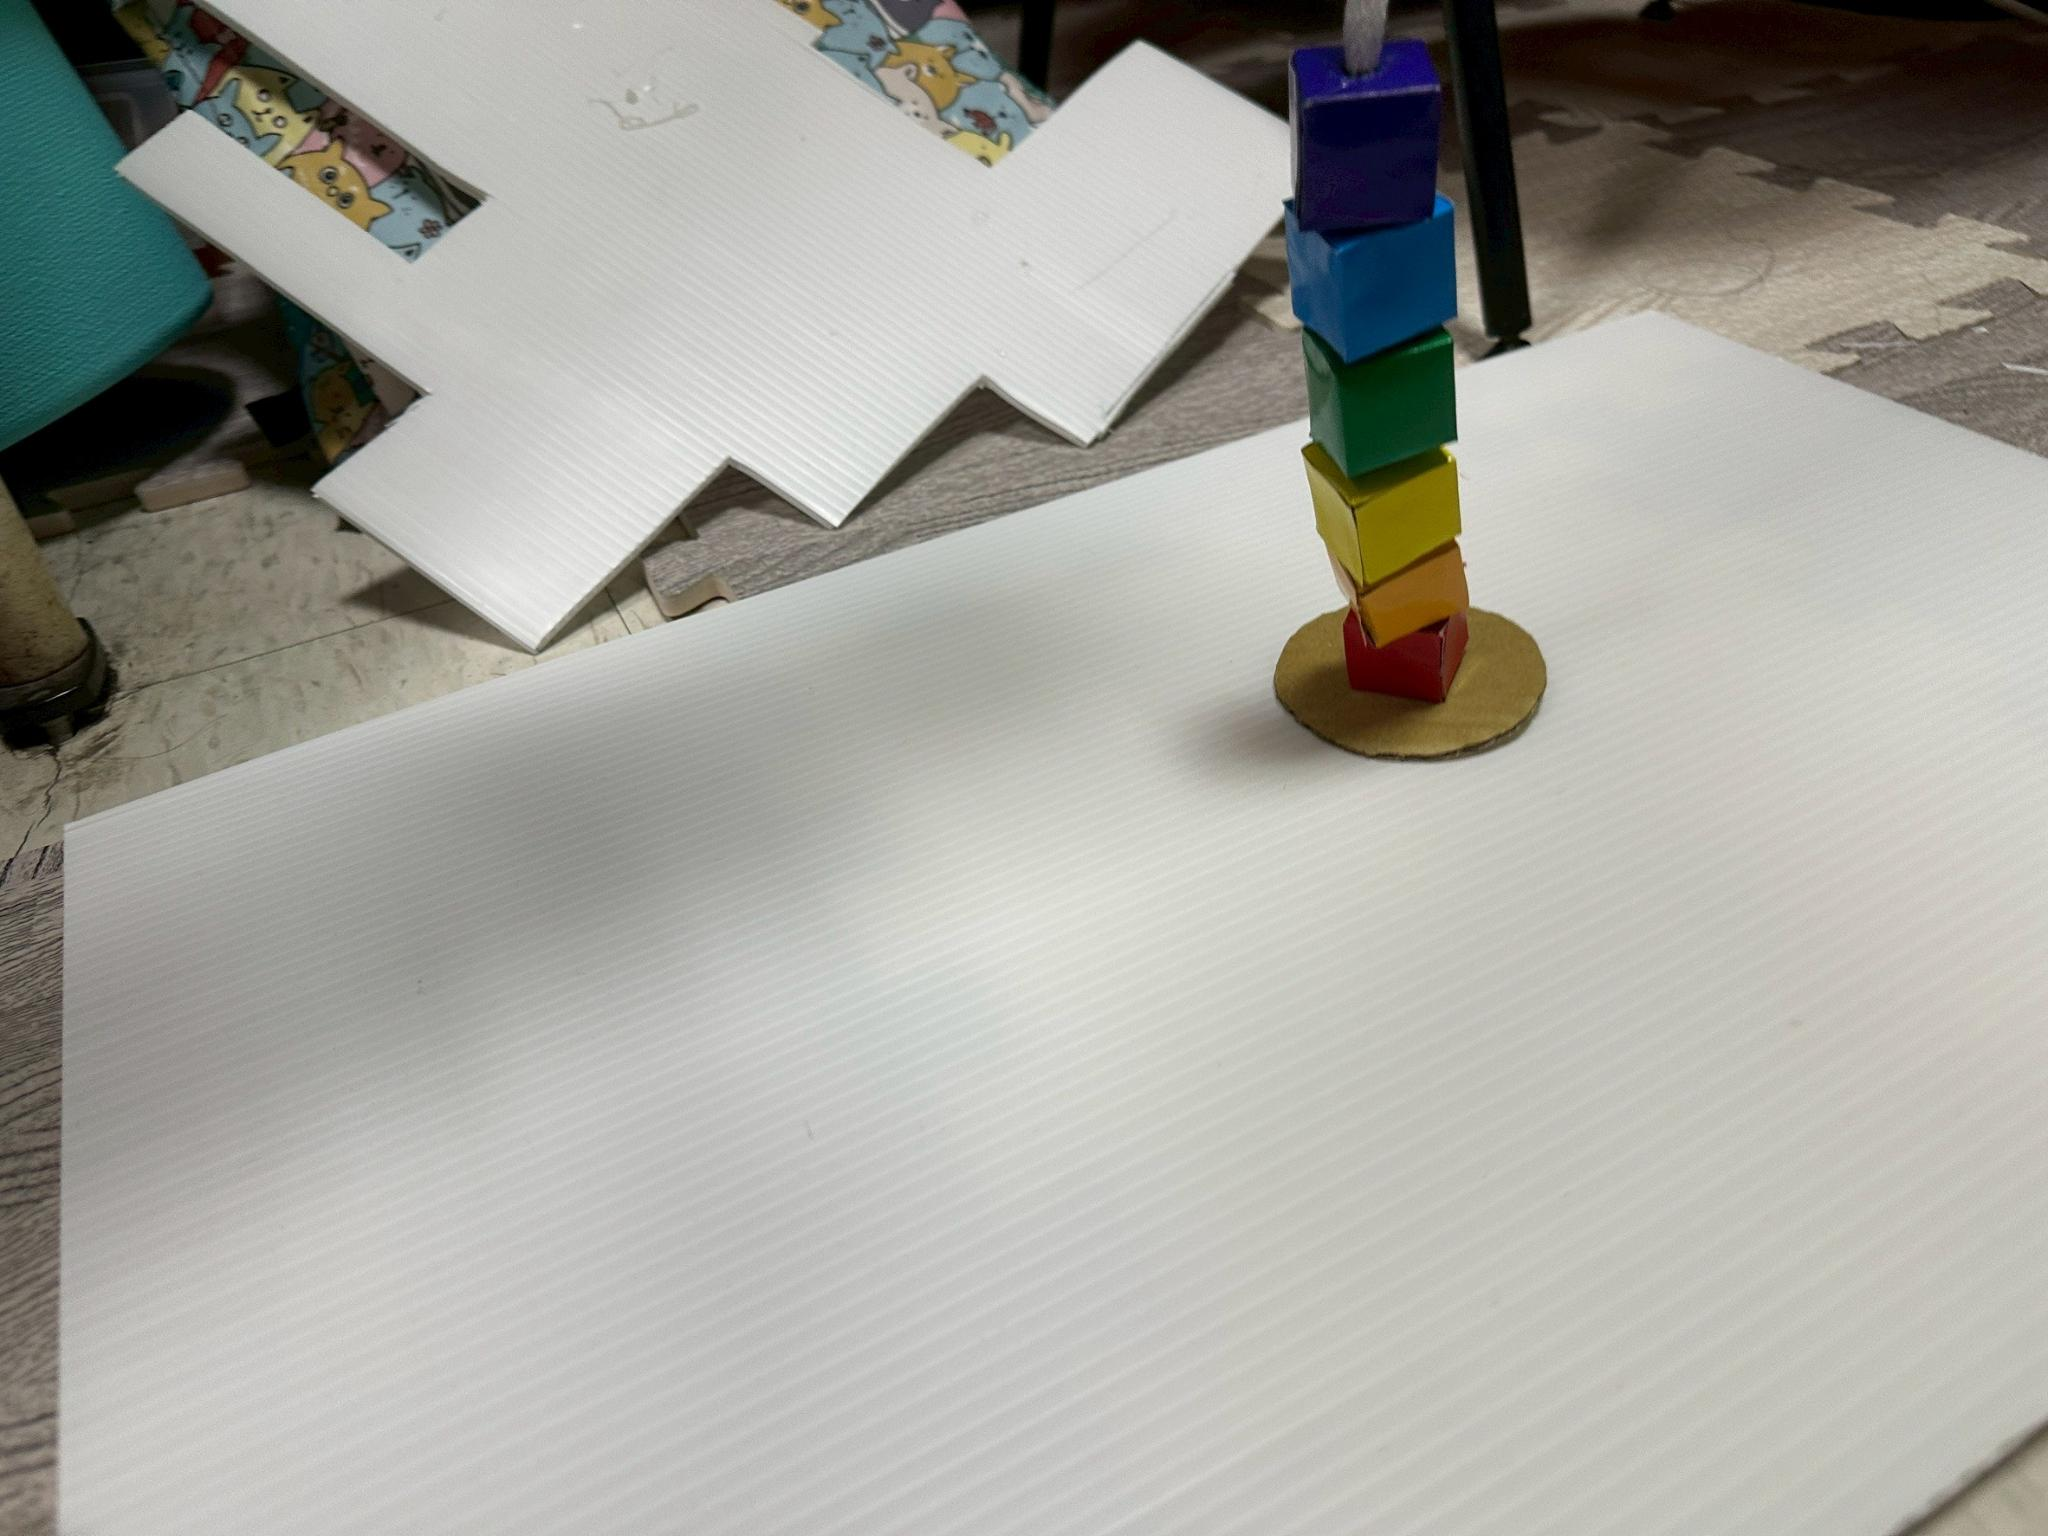base: (1274, 608, 1546, 758)
cube: (1285, 195, 1456, 361), (1303, 440, 1461, 589), (1303, 326, 1456, 478), (1330, 539, 1469, 649), (1342, 611, 1467, 703)
